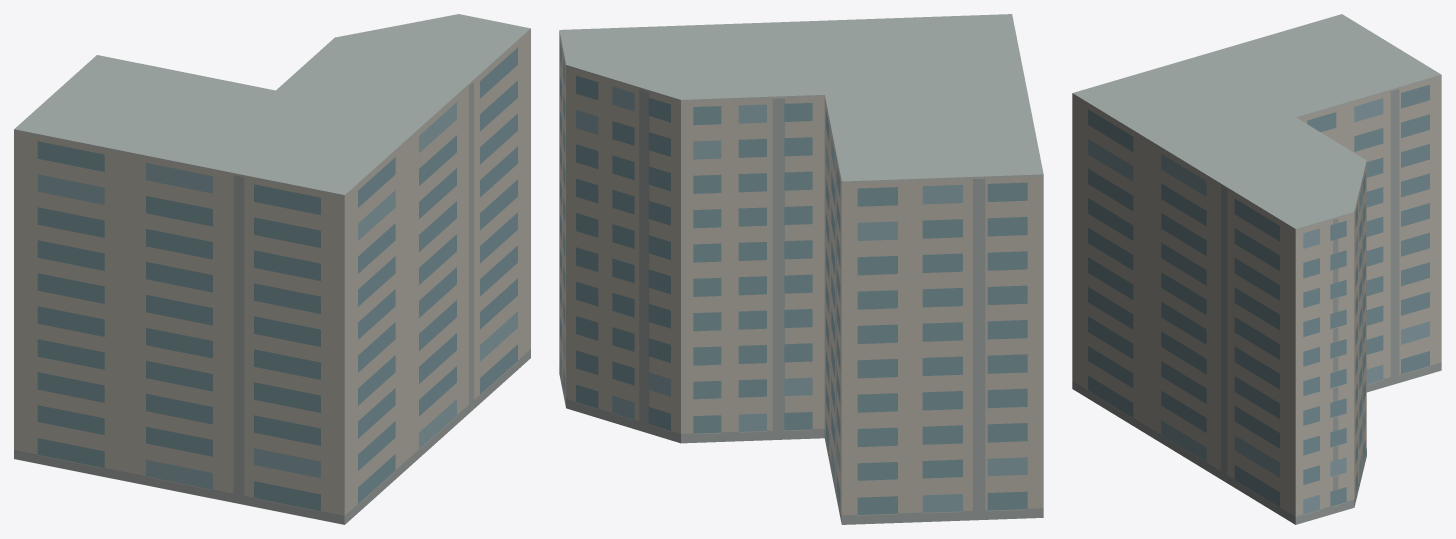
The model's file is residential-16ce7328-bc3e-4ba2-bd7b-9d951d1affa5.glb.
The picture shows the model from 3 angles, left to right: view 1: azimuth 30°, elevation 25°; view 2: azimuth 150°, elevation 25°; view 3: azimuth 270°, elevation 25°; orthographic projection. The views are drawn at different scales.
Visible parts, largest first — view 1: residential-16ce7328-bc3e-4ba2-bd7b-9d951d1affa5.tmp; view 2: residential-16ce7328-bc3e-4ba2-bd7b-9d951d1affa5.tmp; view 3: residential-16ce7328-bc3e-4ba2-bd7b-9d951d1affa5.tmp.
Boxes of the visible parts, <box> form: residential-16ce7328-bc3e-4ba2-bd7b-9d951d1affa5.tmp: <box>14,14,530,524</box>; residential-16ce7328-bc3e-4ba2-bd7b-9d951d1affa5.tmp: <box>559,14,1043,524</box>; residential-16ce7328-bc3e-4ba2-bd7b-9d951d1affa5.tmp: <box>1072,14,1441,524</box>.
Size of the model in its own units: 57.65 by 37 by 41.83.
